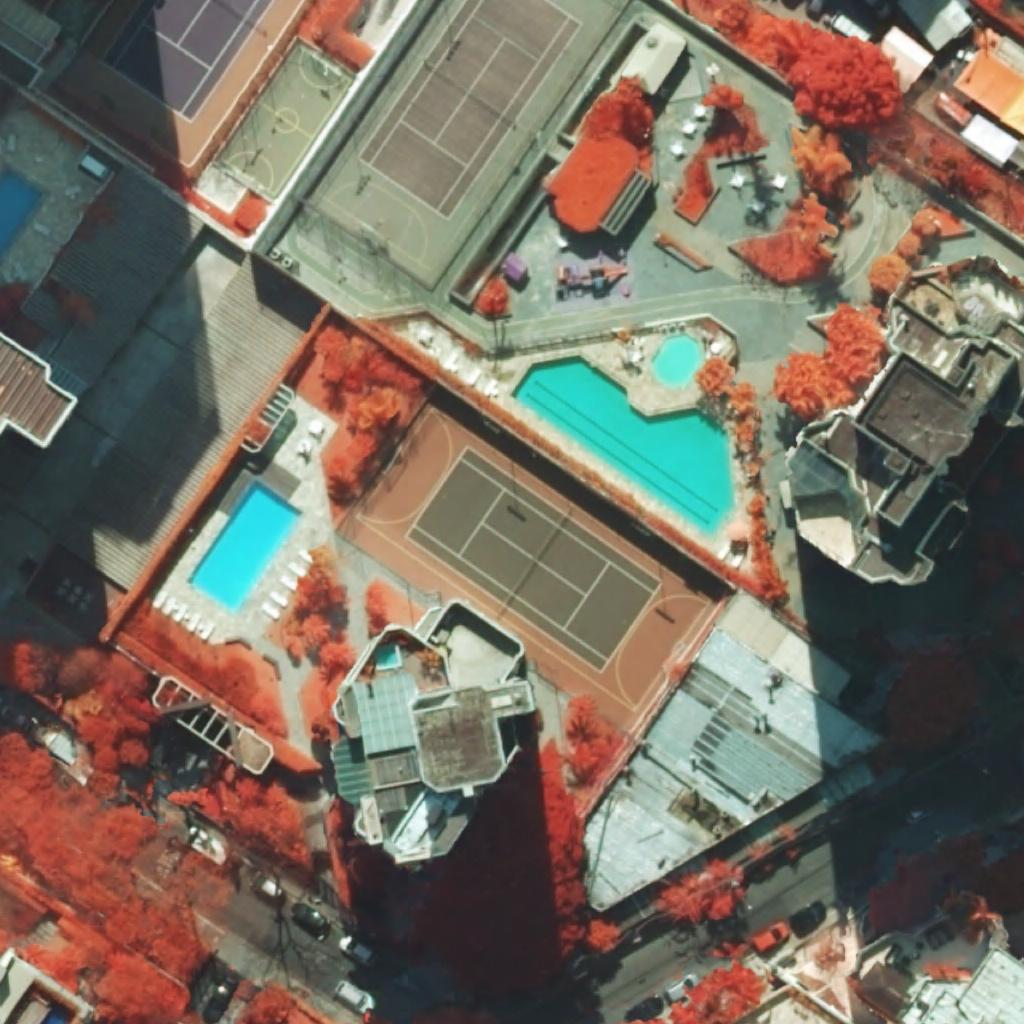pool: (510, 354, 737, 538), (185, 481, 303, 614), (651, 335, 703, 387), (41, 1001, 75, 1024), (374, 645, 398, 666)
